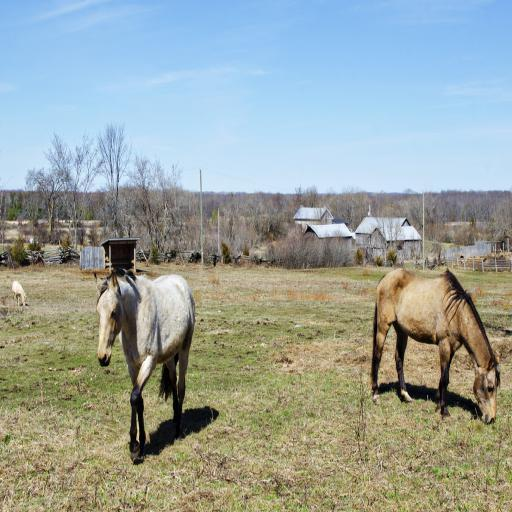horse: (371, 266, 501, 426), (93, 270, 196, 464)
